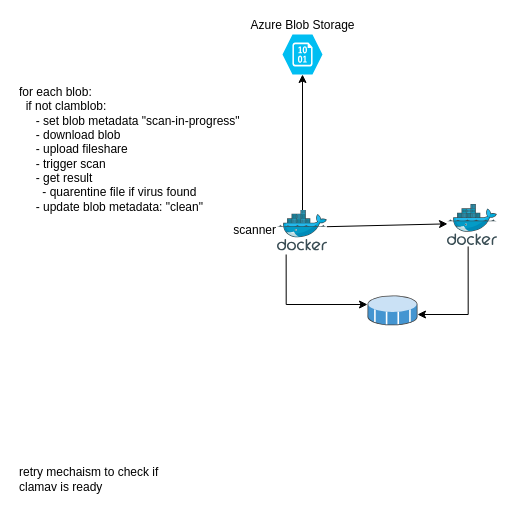
The diagram is 514 pixels wide and 511 high, and some of its shapes have lost their labels. Each missing label, with the centre of its shape:
"azure fileshare volume" belongs at (x=392, y=310).
"clamav" belongs at (x=472, y=224).
